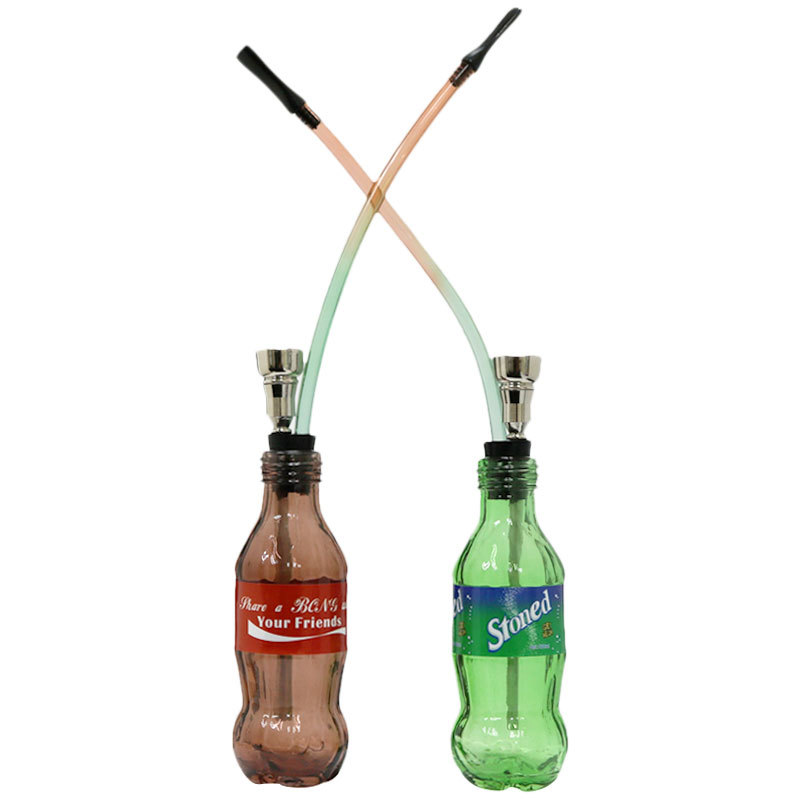Rec_Glass: (232, 443, 363, 791), (440, 460, 574, 794)
